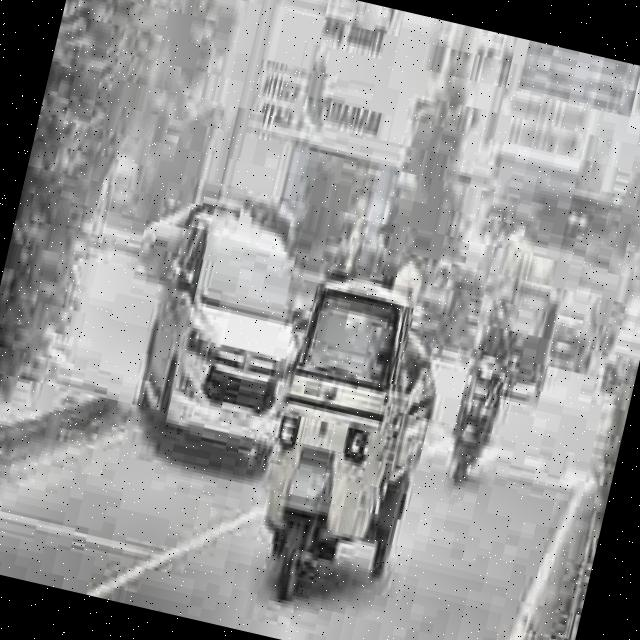license_plate: (210, 398, 257, 440)
